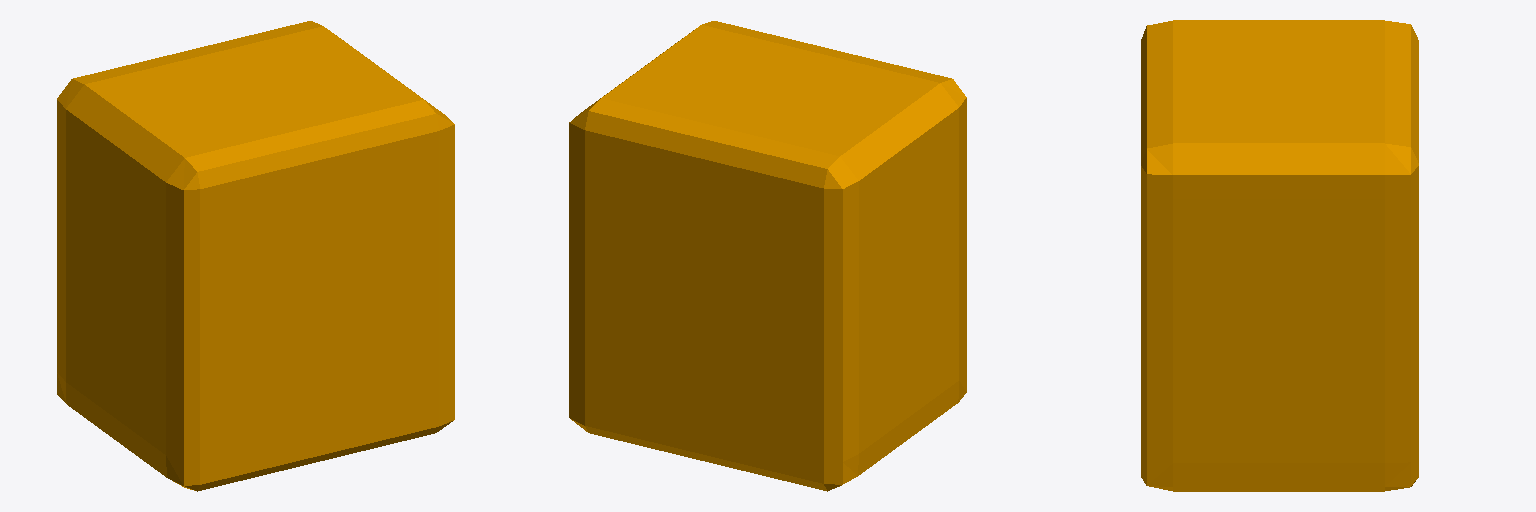
robot.urdf — cylinder_box_146:
<?xml version="1.0" encoding="utf-8"?>  <robot name="cylinder_box_146">   <link name="cylinder_box_146">     <visual>       <geometry>         <mesh filename="../meshes/box/box_146.stl" scale="1 1 1"/>       </geometry>     </visual>     <collision>       <geometry>         <mesh filename="../meshes/box/box_146.stl" scale="1 1 1"/>       </geometry>     </collision>     <inertial>        <origin         xyz="0 0 0"         rpy="0 0 0" />       <mass value="0.24069513206059767"/>       <origin rpy="0 0 0" xyz="0 0 0"/>       <inertia ixx="0.00015780063416936807" ixy="2.7902840936458018e-08" ixz="4.08027734767204e-08" iyy="0.0001837769093684974" iyz="1.401752116198047e-08" izz="0.000135246885295128"/>     </inertial>   </link>  </robot>

--- Facts derived from the render (not from the file) ---
Views: 3 orthographic renders of the robot side by side, from view 1: azimuth 30°, elevation 25°; view 2: azimuth 150°, elevation 25°; view 3: azimuth 270°, elevation 25°.
Model cylinder_box_146 with 1 links and 0 joints (none), rooted at cylinder_box_146, posed every joint at zero.
Visible links, largest first — view 1: cylinder_box_146; view 2: cylinder_box_146; view 3: cylinder_box_146.
Boxes of the visible links, x1,y1,x2,y2 form: cylinder_box_146: (57, 21, 454, 491); cylinder_box_146: (569, 21, 966, 491); cylinder_box_146: (1141, 20, 1418, 491).
Size in the robot's own frame: 0.0642 by 0.0527 by 0.0726 metres.
1 mesh visuals loaded from 1 distinct referenced files (1 binary STL).